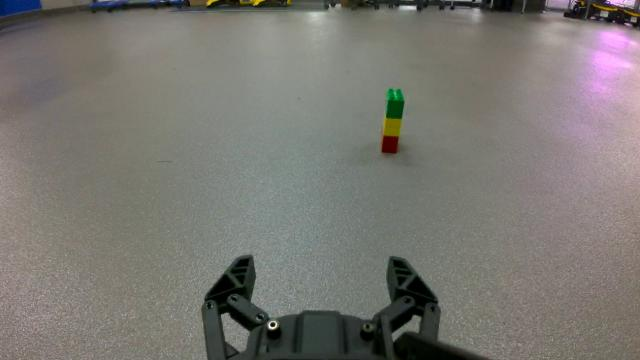lego: (380, 87, 406, 155)
